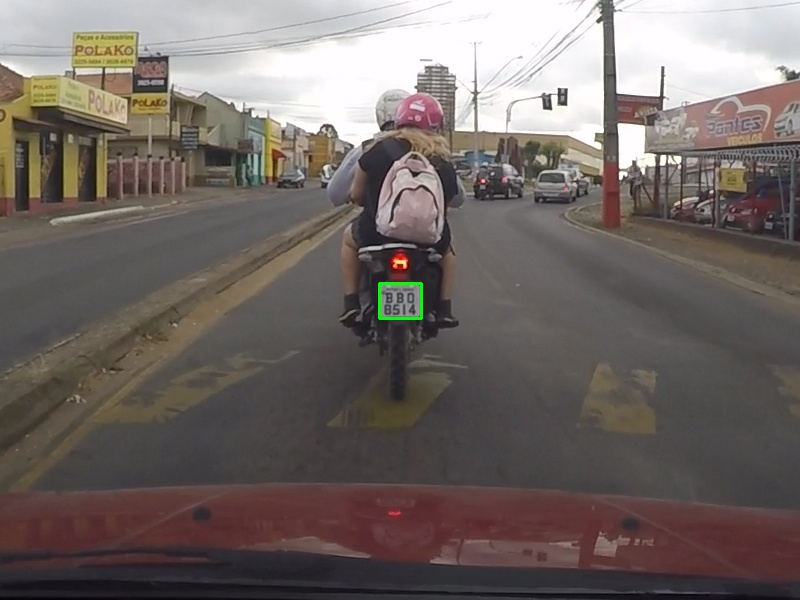placa: (379, 283, 421, 318)
